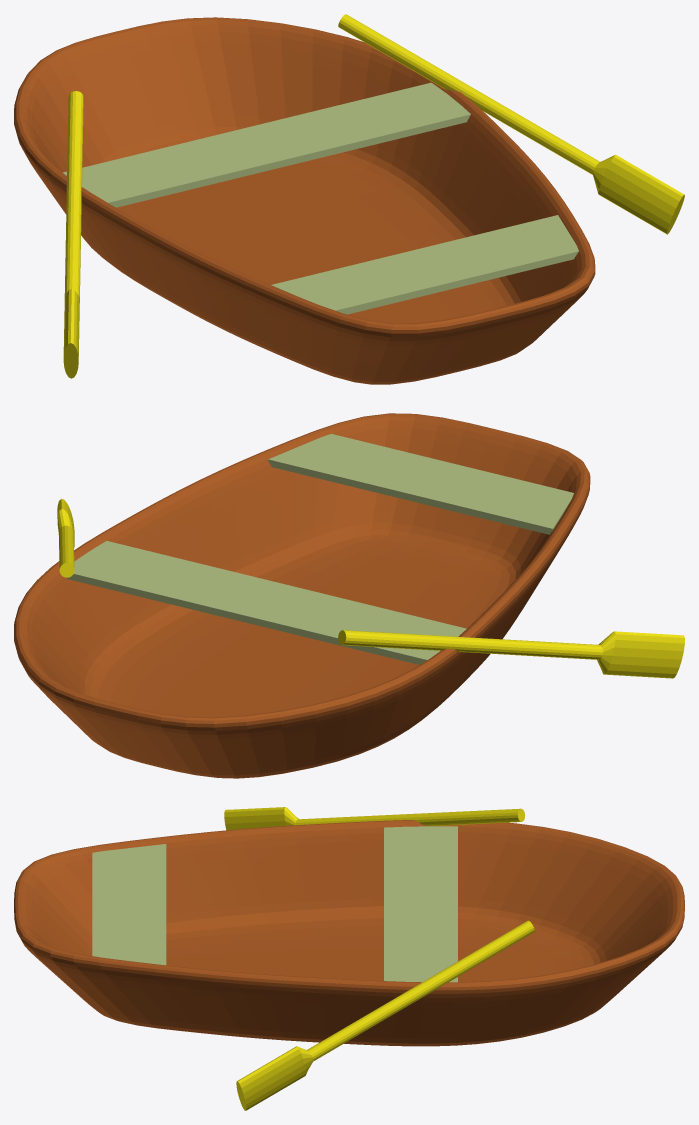
File: лодка.fbx
3 views of the same model, one above another, from view 1: azimuth 30°, elevation 25°; view 2: azimuth 150°, elevation 25°; view 3: azimuth 270°, elevation 25° (orthographic). The views are drawn at different scales.
Parts seen in each view (by area): view 1: Plane, Cube.001, Cube, Cylinder.001, Cylinder; view 2: Plane, Cube.001, Cube, Cylinder, Cylinder.001; view 3: Plane, Cube.001, Cube, Cylinder.001, Cylinder.
Part boxes in pixels (box(x1,y1,x2,y2)): Plane: box(14, 17, 595, 384); Cube.001: box(63, 82, 470, 207); Cube: box(271, 215, 578, 314); Cylinder.001: box(338, 14, 684, 234); Cylinder: box(63, 91, 83, 378); Plane: box(14, 413, 590, 778); Cube.001: box(66, 541, 466, 664); Cube: box(268, 433, 573, 534); Cylinder: box(338, 630, 684, 678); Cylinder.001: box(57, 499, 74, 577); Plane: box(14, 820, 684, 1046); Cube.001: box(384, 826, 457, 982); Cube: box(92, 844, 166, 965); Cylinder.001: box(236, 920, 534, 1110); Cylinder: box(224, 807, 525, 830).
Size of the model in its own units: 254 by 57.06 by 271.
